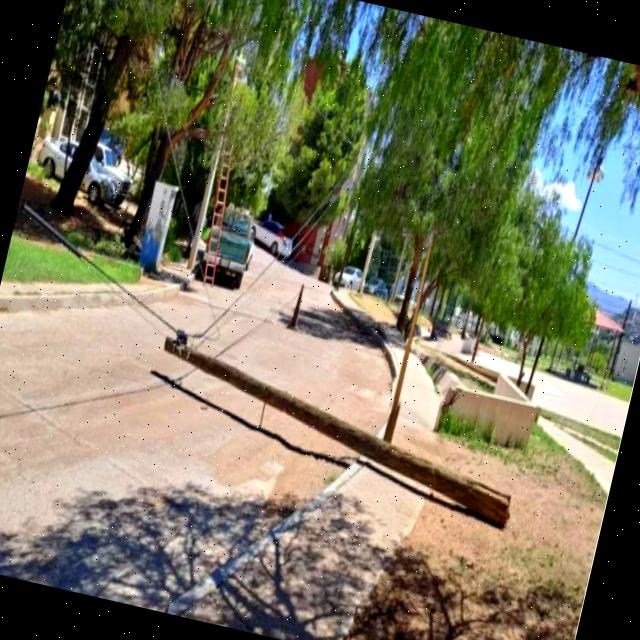Broken Pole: (134, 306, 553, 562)
